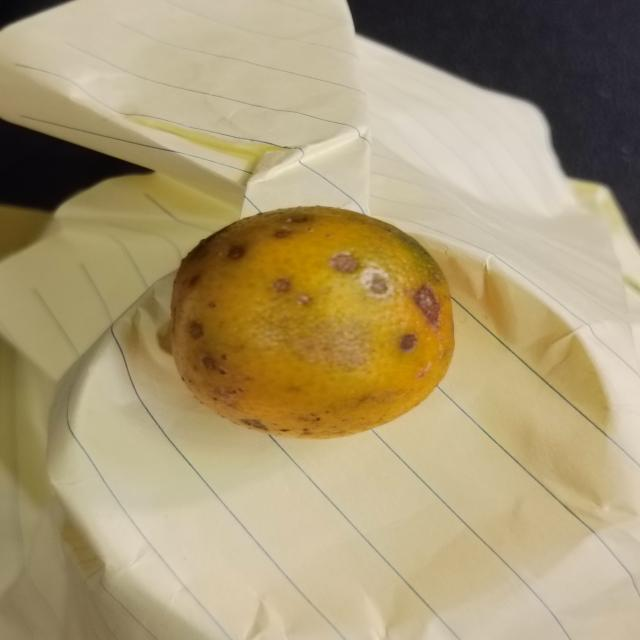black spot: (159, 207, 461, 435)
